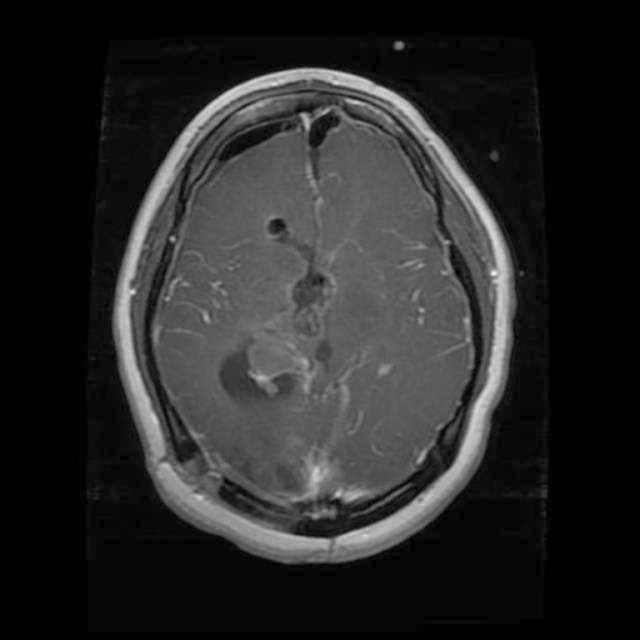pituitary tumor: (248, 338, 310, 397)
